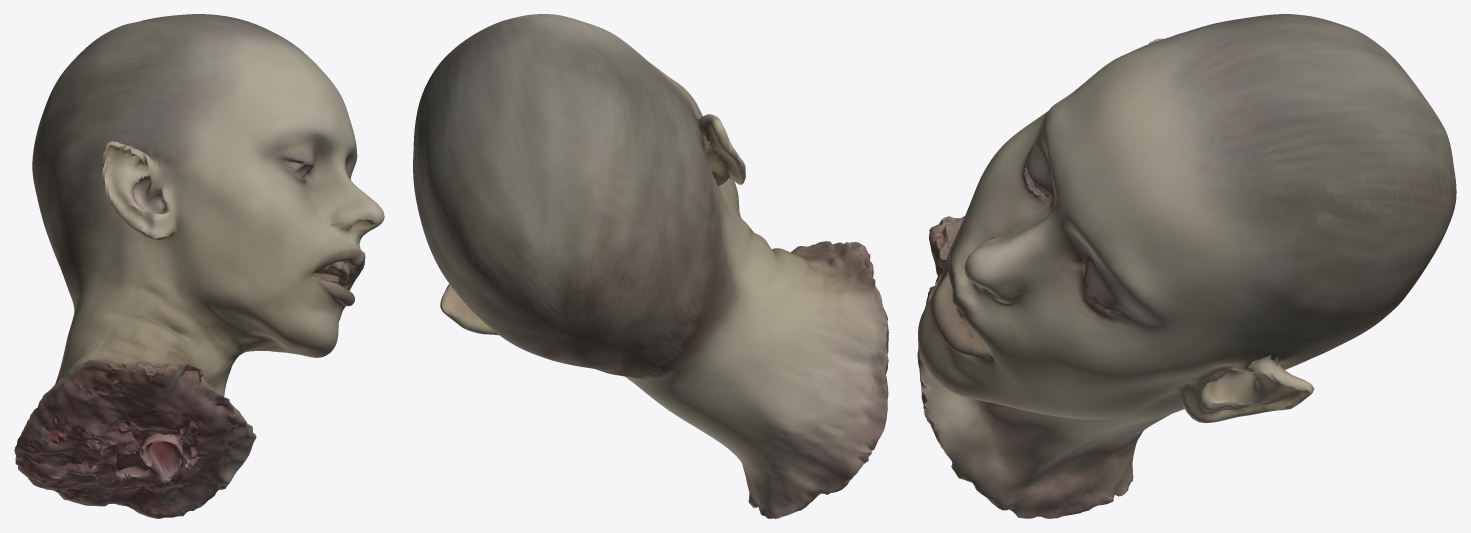
The model's file is neck.glb.
3 views of the same model, side by side, from view 1: azimuth 30°, elevation 25°; view 2: azimuth 150°, elevation 25°; view 3: azimuth 270°, elevation 25° (orthographic). The views are drawn at different scales.
Visible parts, largest first — view 1: Object_2; view 2: Object_2; view 3: Object_2.
Part boxes in pixels (left/top/right/bottom): Object_2: left=14, top=14, right=384, bottom=518; Object_2: left=413, top=14, right=888, bottom=518; Object_2: left=917, top=14, right=1456, bottom=518.
Bounding box in the file's own units: 5.74 × 6.41 × 5.57.
